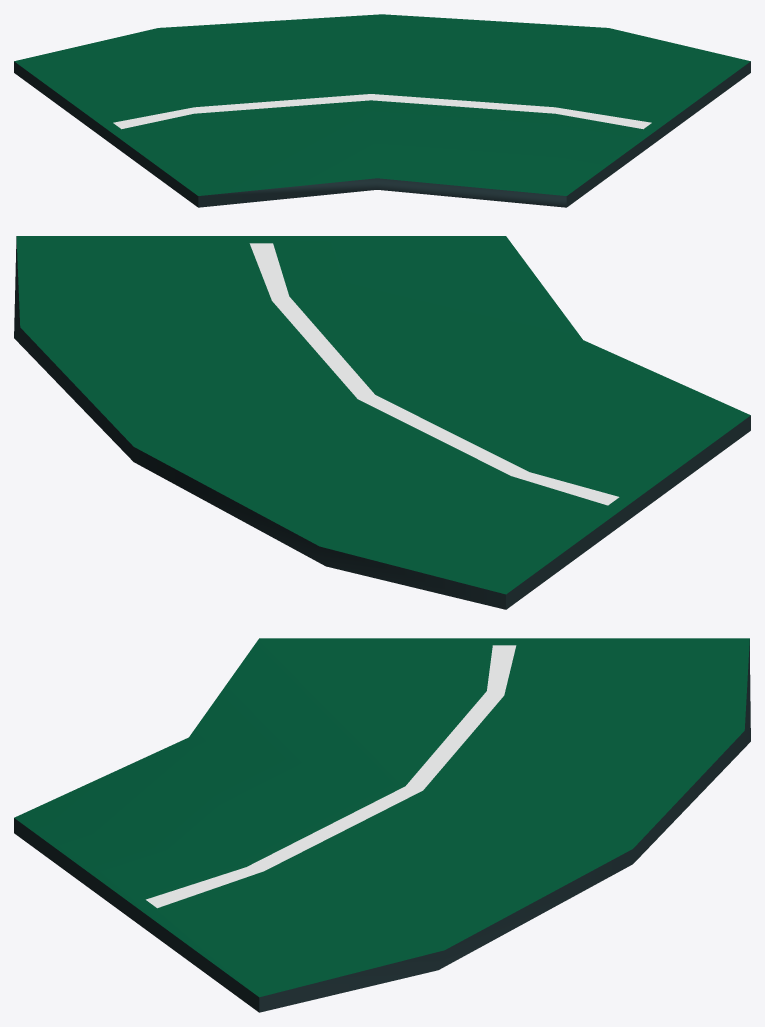
The model's file is right3.fbx.
3 views of the same model, one above another, from view 1: azimuth 30°, elevation 25°; view 2: azimuth 150°, elevation 25°; view 3: azimuth 270°, elevation 25° (orthographic). The views are drawn at different scales.
Visible parts, largest first — view 1: right3; view 2: right3; view 3: right3.
Part boxes in pixels (left/top/right/bottom): right3: left=14, top=14, right=750, bottom=207; right3: left=14, top=236, right=750, bottom=609; right3: left=14, top=638, right=750, bottom=1012.
Size of the model in its own units: 50.01 by 1 by 43.38.
Materials: 1 (1 with a texture image).
